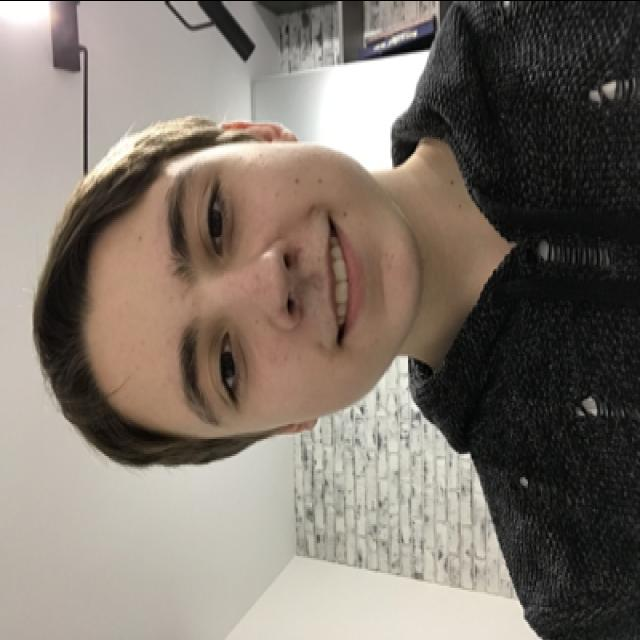without_mask: (164, 134, 422, 448)
